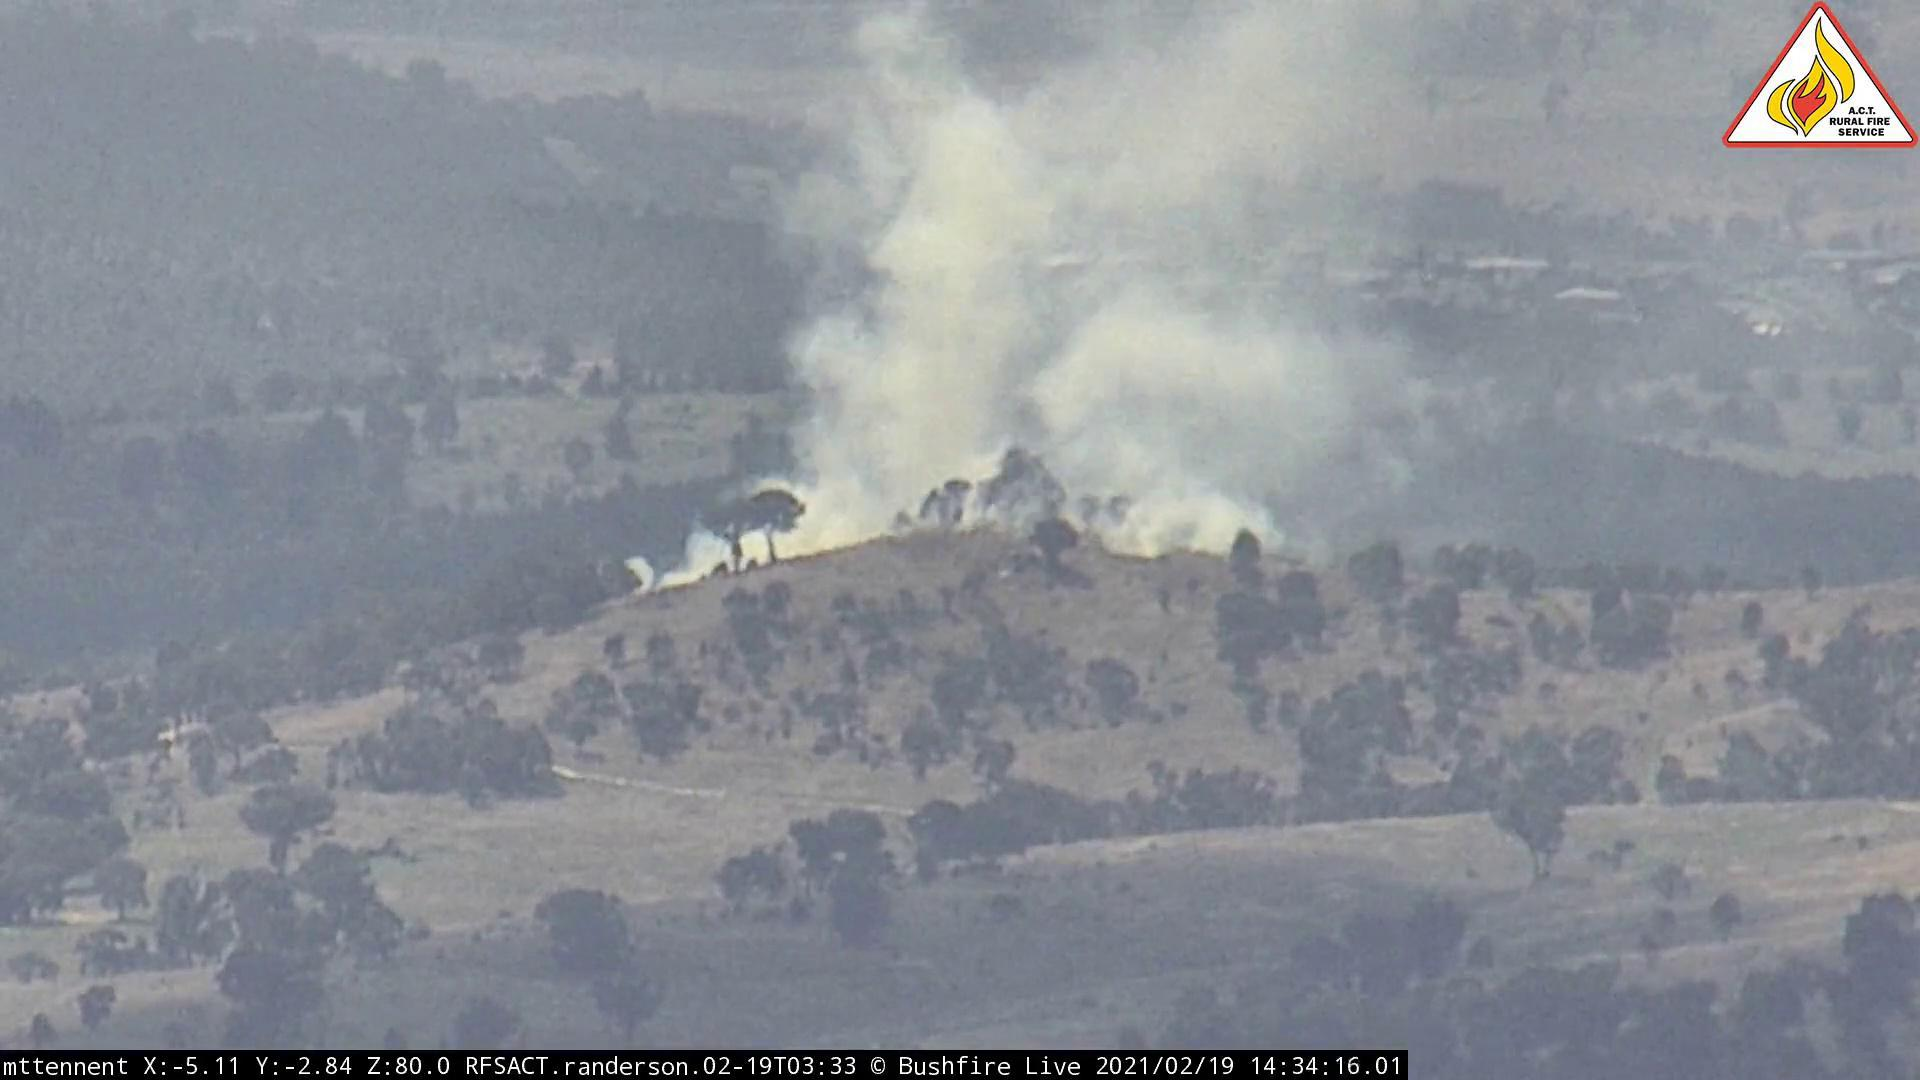Smoke: (622, 3, 1615, 616)
